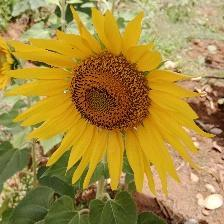sunflower: (31, 30, 187, 188)
